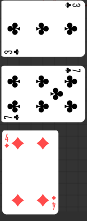3C: (64, 1, 82, 9)
4D: (51, 194, 58, 211)
7C: (3, 113, 21, 121)
